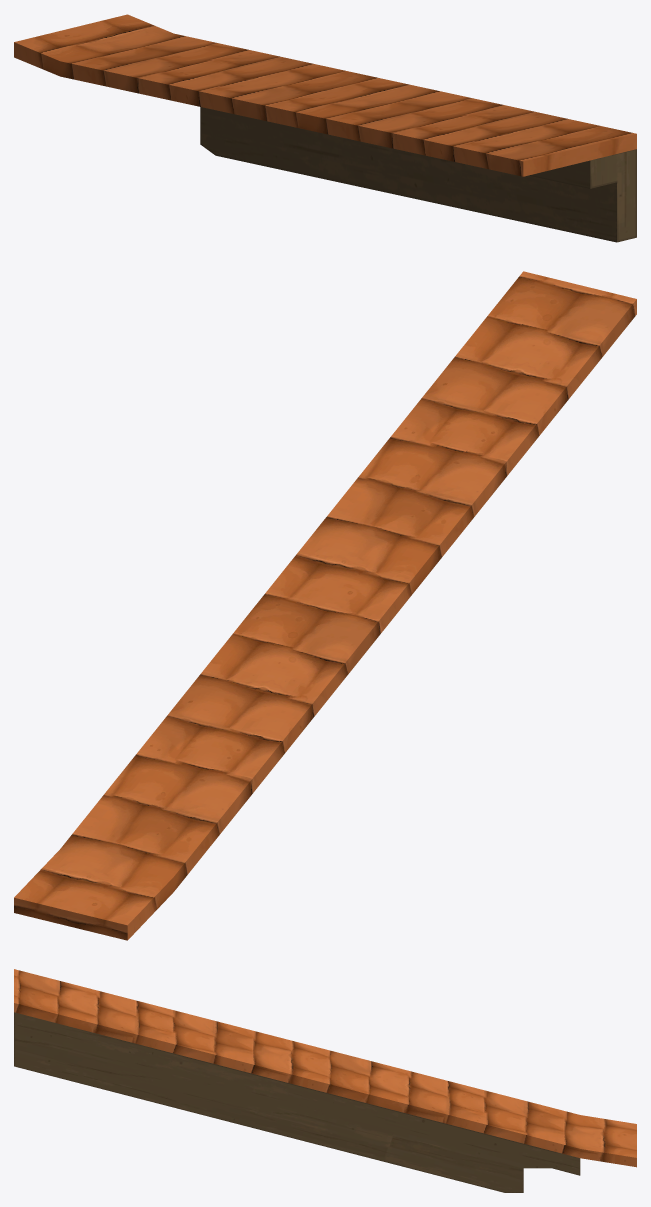
File: SM_building_roof_07.glb
The picture shows the model from 3 angles, top to bottom: view 1: azimuth 30°, elevation 25°; view 2: azimuth 150°, elevation 25°; view 3: azimuth 270°, elevation 25°; orthographic projection. The views are drawn at different scales.
Parts seen in each view (by area): view 1: SM_building_roof_07; view 2: SM_building_roof_07; view 3: SM_building_roof_07.
Boxes of the visible parts, x1=… form: SM_building_roof_07: x1=14, y1=14, x2=636, y2=242; SM_building_roof_07: x1=14, y1=271, x2=636, y2=940; SM_building_roof_07: x1=14, y1=969, x2=636, y2=1192.
Size of the model in its own units: 0.85 by 2.22 by 6.6.
Materials: 2 (2 with a texture image).
